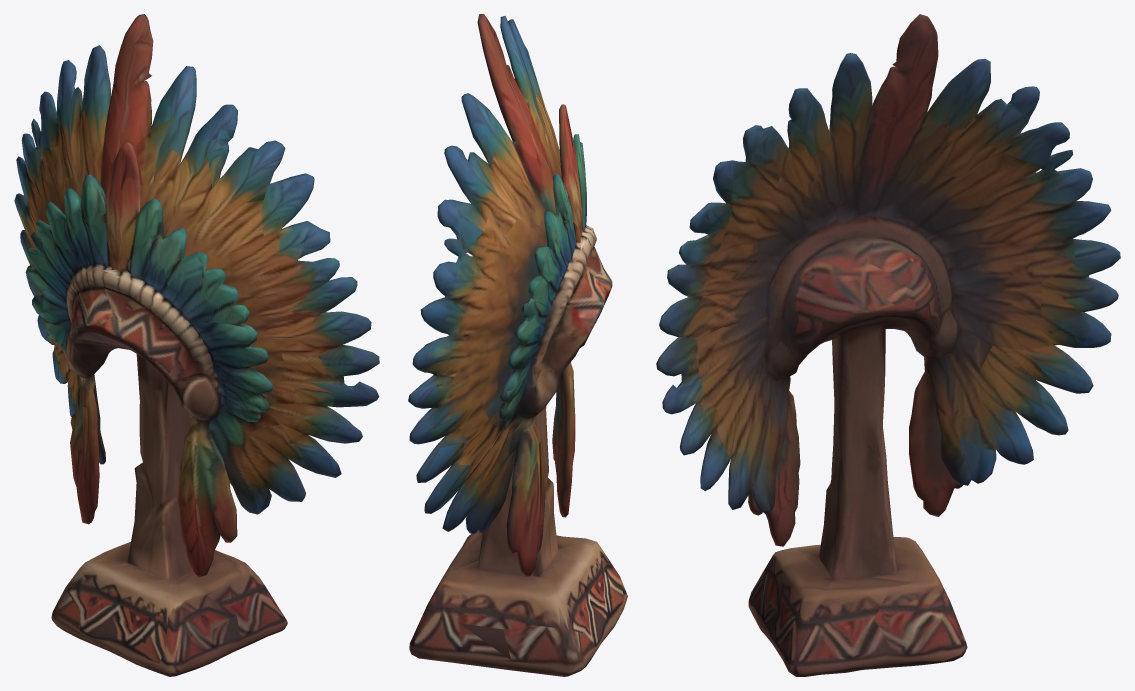
The model's file is u04_cocar_suporte.glb.
The picture shows the model from 3 angles, left to right: view 1: azimuth 30°, elevation 25°; view 2: azimuth 150°, elevation 25°; view 3: azimuth 270°, elevation 25°; orthographic projection. The views are drawn at different scales.
Parts seen in each view (by area): view 1: u04_cocar_suporte; view 2: u04_cocar_suporte; view 3: u04_cocar_suporte.
Part boxes in pixels (box(x1,y1,x2,y2)): u04_cocar_suporte: box(14, 14, 379, 676); u04_cocar_suporte: box(408, 14, 627, 676); u04_cocar_suporte: box(656, 14, 1120, 676).
Bounding box in the file's own units: 0.4047 × 1.12 × 0.7534.
1 material, 1 textured.
